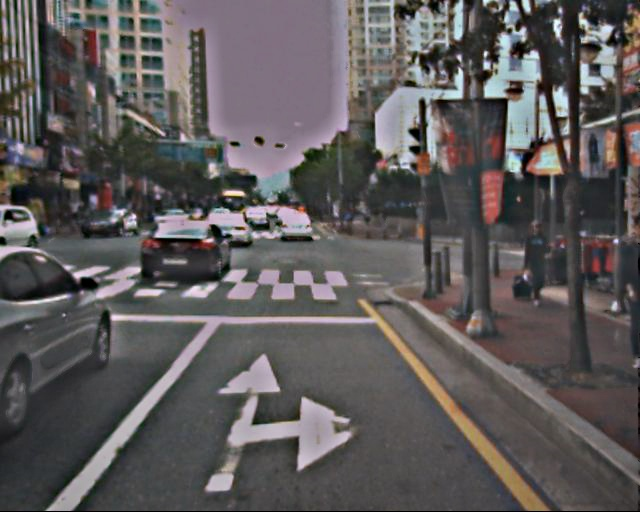person: (596, 215, 640, 369), (516, 219, 554, 308)
